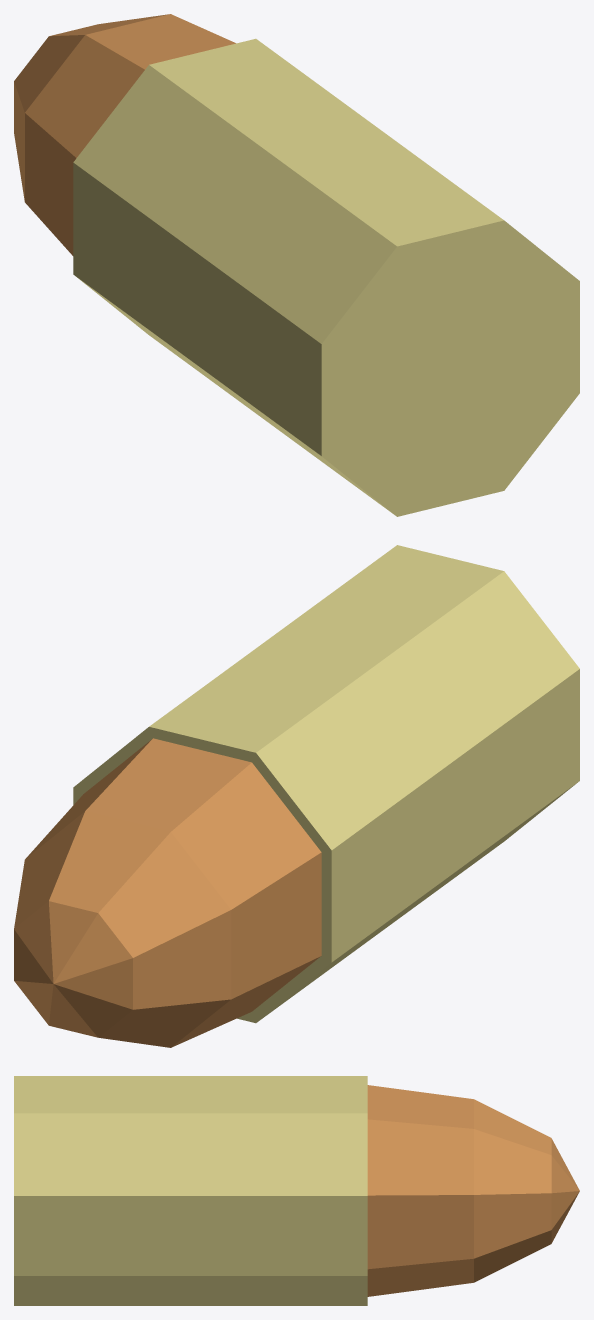
The model's file is ce_ammo_revolver_fmj_a.obj.
The picture shows the model from 3 angles, top to bottom: view 1: azimuth 30°, elevation 25°; view 2: azimuth 150°, elevation 25°; view 3: azimuth 270°, elevation 25°; orthographic projection. The views are drawn at different scales.
Parts seen in each view (by area): view 1: ce_ammo_revolver_fmj_a_0, ce_ammo_revolver_fmj_a_1, ce_ammo_revolver_fmj_a_2; view 2: ce_ammo_revolver_fmj_a_0, ce_ammo_revolver_fmj_a_1, ce_ammo_revolver_fmj_a_2, ce_ammo_revolver_fmj_a_3; view 3: ce_ammo_revolver_fmj_a_0, ce_ammo_revolver_fmj_a_1, ce_ammo_revolver_fmj_a_2, ce_ammo_revolver_fmj_a_3.
Part boxes in pixels (x1=…): ce_ammo_revolver_fmj_a_0: x1=73, y1=38, x2=579, y2=516; ce_ammo_revolver_fmj_a_1: x1=25, y1=14, x2=235, y2=255; ce_ammo_revolver_fmj_a_2: x1=14, y1=14, x2=168, y2=201; ce_ammo_revolver_fmj_a_0: x1=73, y1=545, x2=579, y2=1023; ce_ammo_revolver_fmj_a_1: x1=26, y1=738, x2=321, y2=1047; ce_ammo_revolver_fmj_a_2: x1=14, y1=811, x2=231, y2=1047; ce_ammo_revolver_fmj_a_3: x1=14, y1=901, x2=132, y2=1037; ce_ammo_revolver_fmj_a_0: x1=14, y1=1076, x2=367, y2=1305; ce_ammo_revolver_fmj_a_1: x1=367, y1=1085, x2=473, y2=1296; ce_ammo_revolver_fmj_a_2: x1=474, y1=1099, x2=551, y2=1282; ce_ammo_revolver_fmj_a_3: x1=551, y1=1139, x2=579, y2=1242.
Bounding box in the file's own units: 0.1202 × 0.1202 × 0.32.
